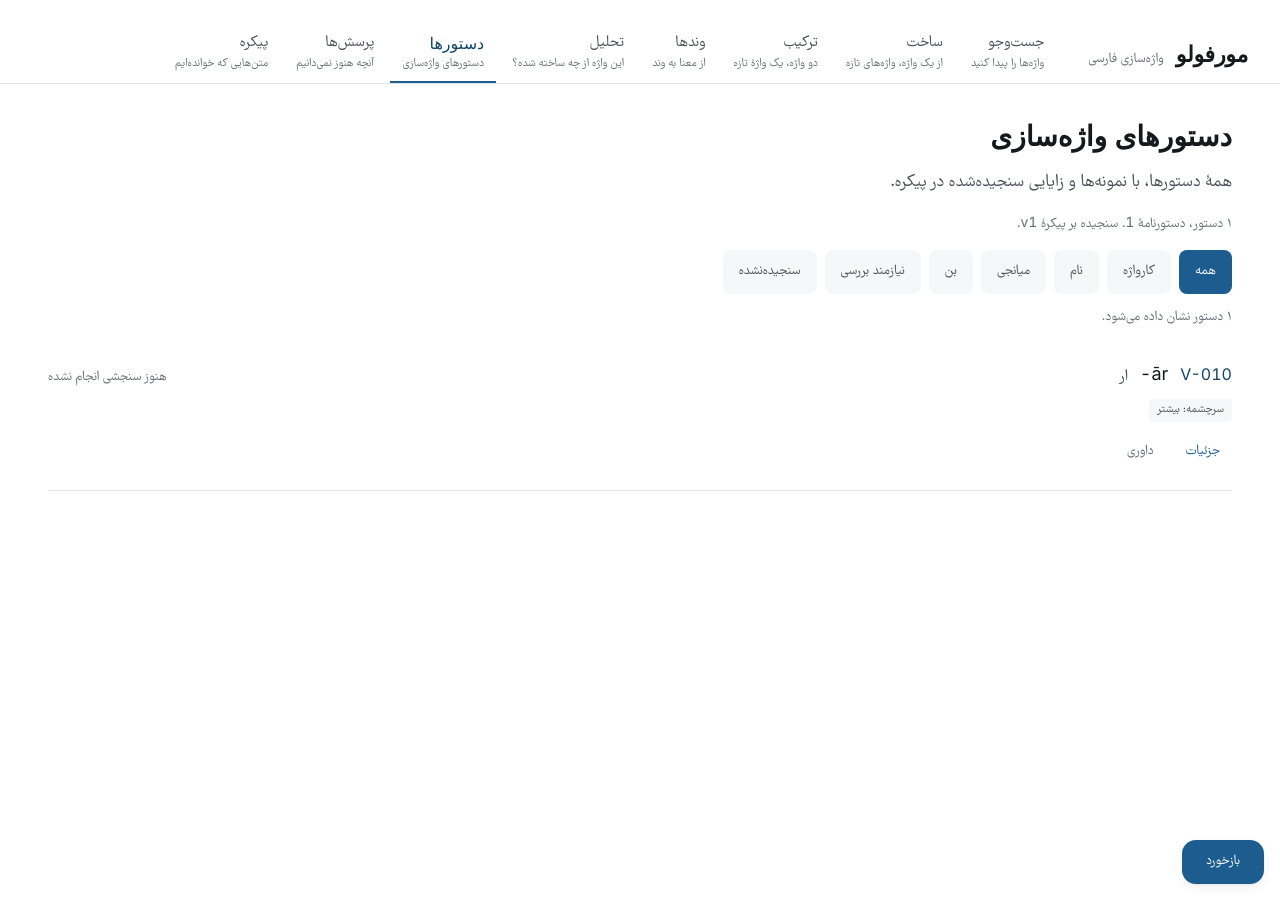
Test case: when the caller may grade a word › says the record cannot be taken back
Click the button with aria-label "داوری دربارهٔ دستور V-010": {"x": 1140, "y": 452} [1115, 430, 1166, 474]
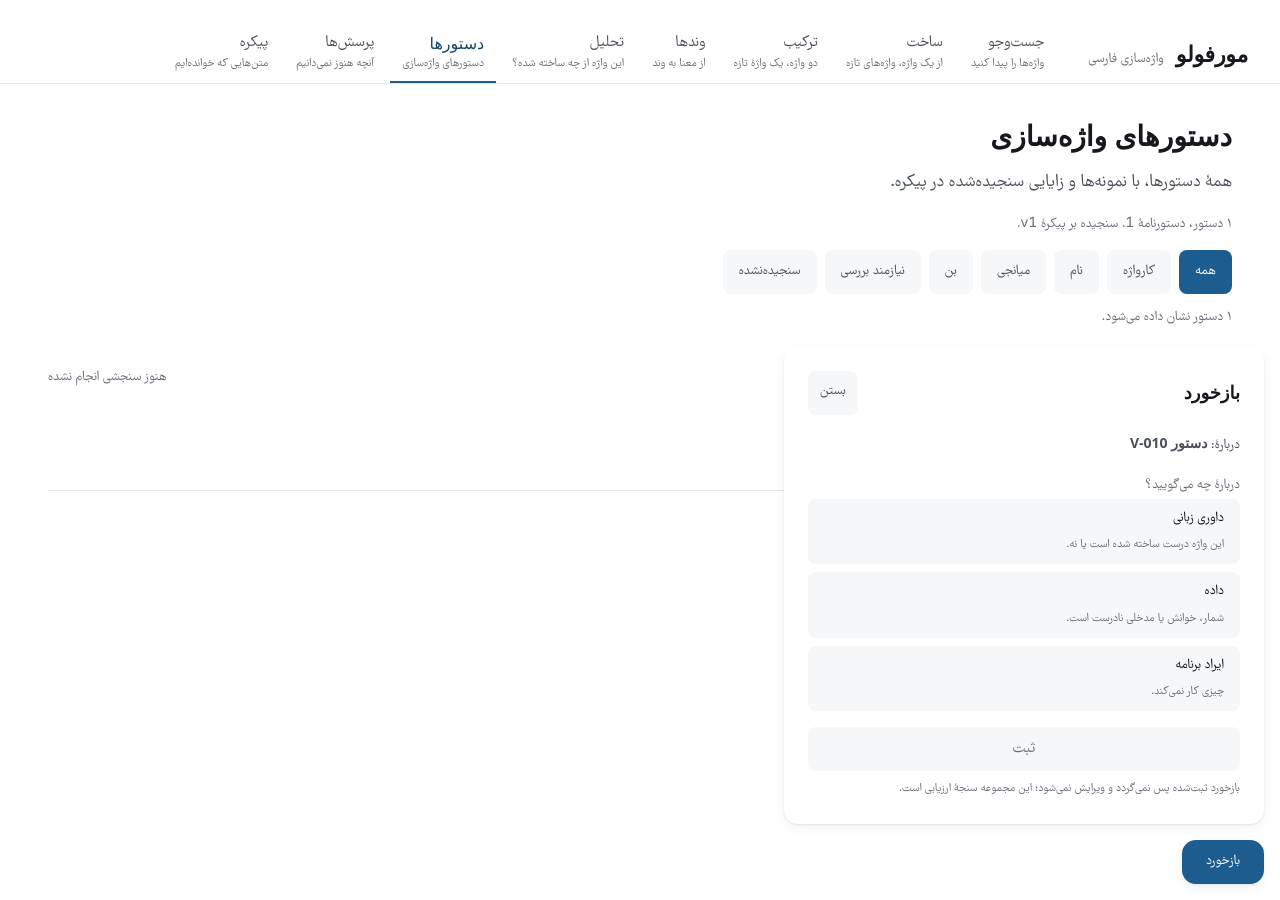
Now the text "پس نمی‌گردد و ویرایش نمی‌شود" is shown, box [899, 781, 1240, 797]
